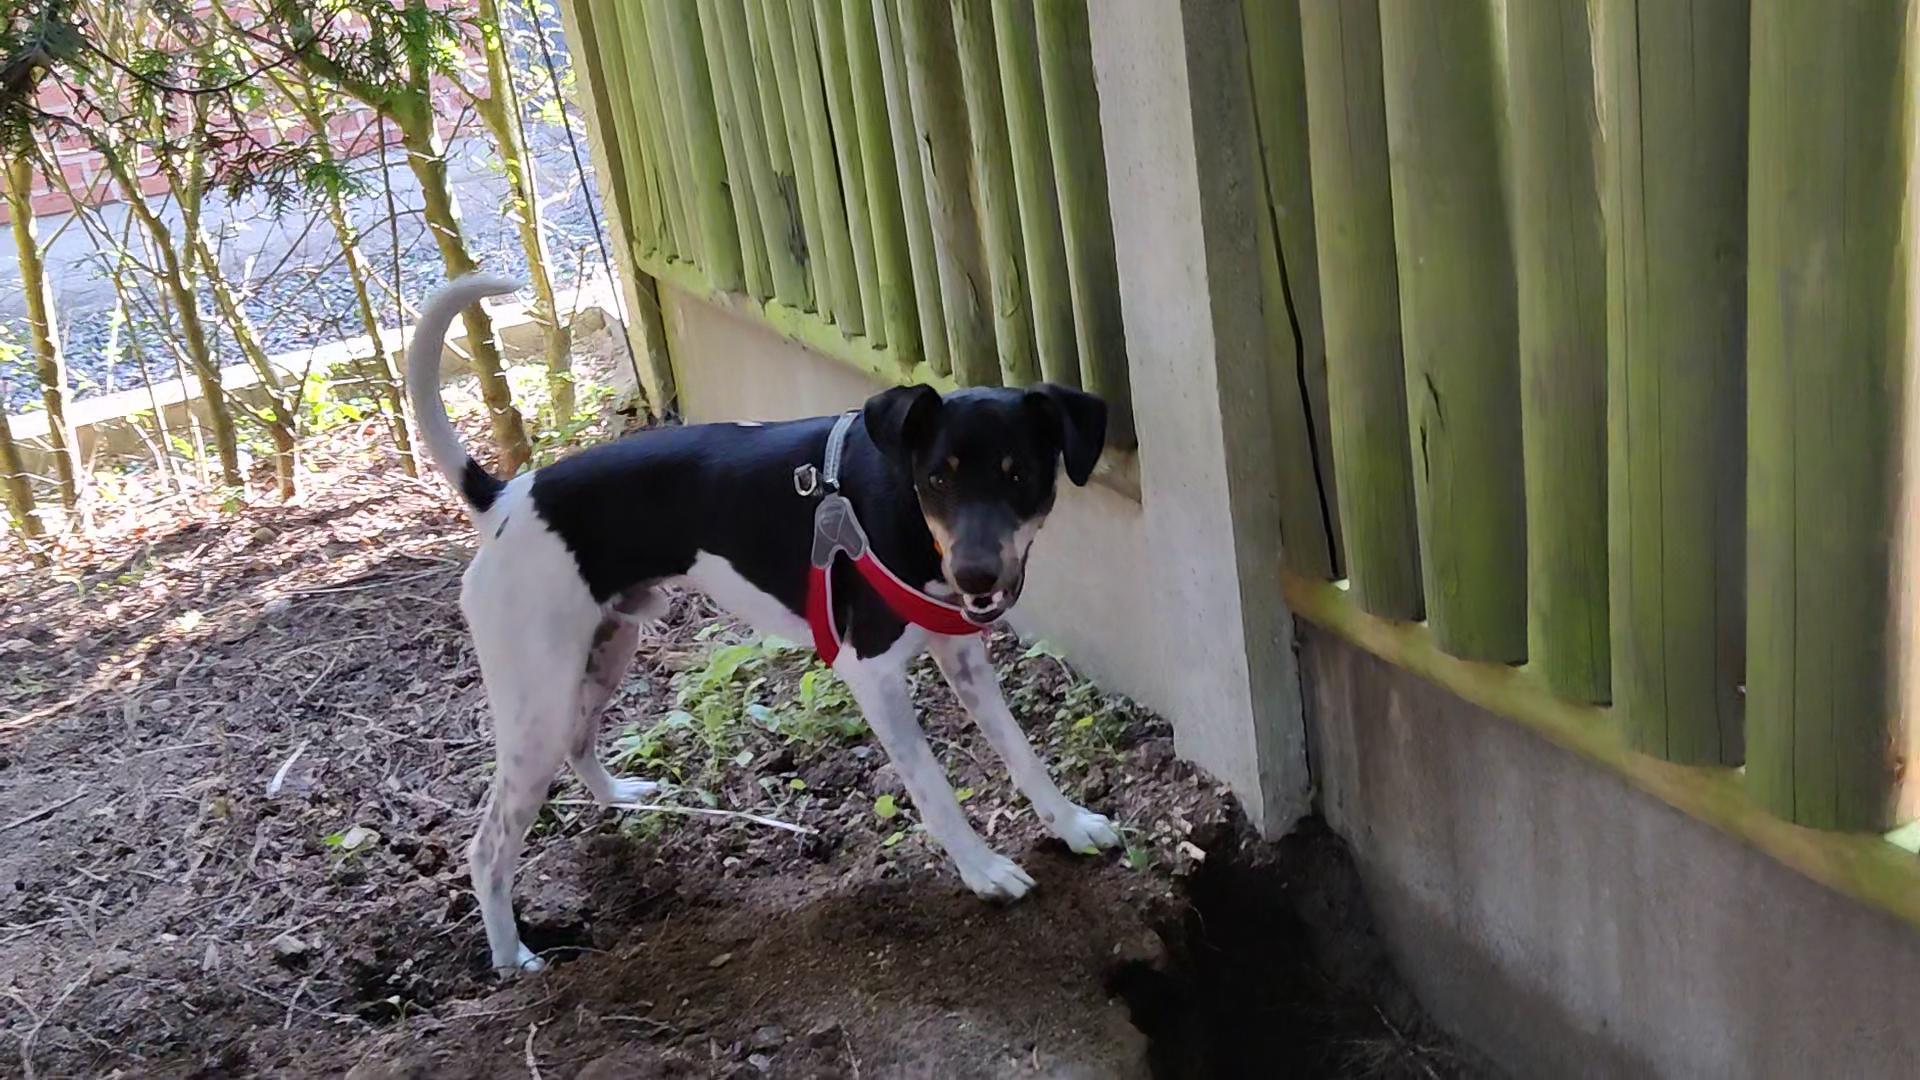Dog: (384, 243, 1134, 982)
